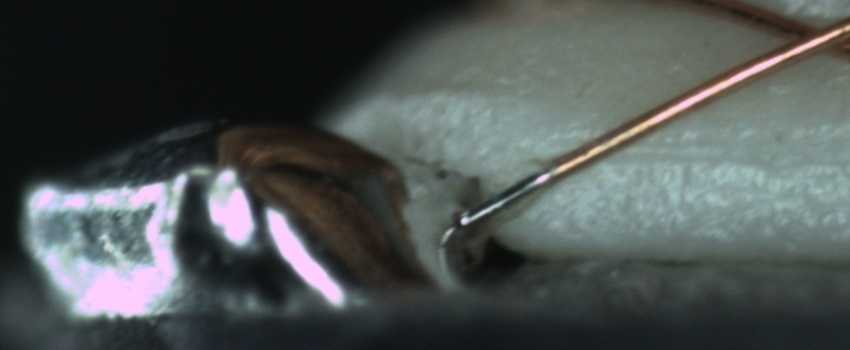CL: (759, 5, 849, 66)
DL: (575, 116, 841, 186)
TS: (455, 165, 555, 228)
TTCW: (451, 141, 589, 229)
